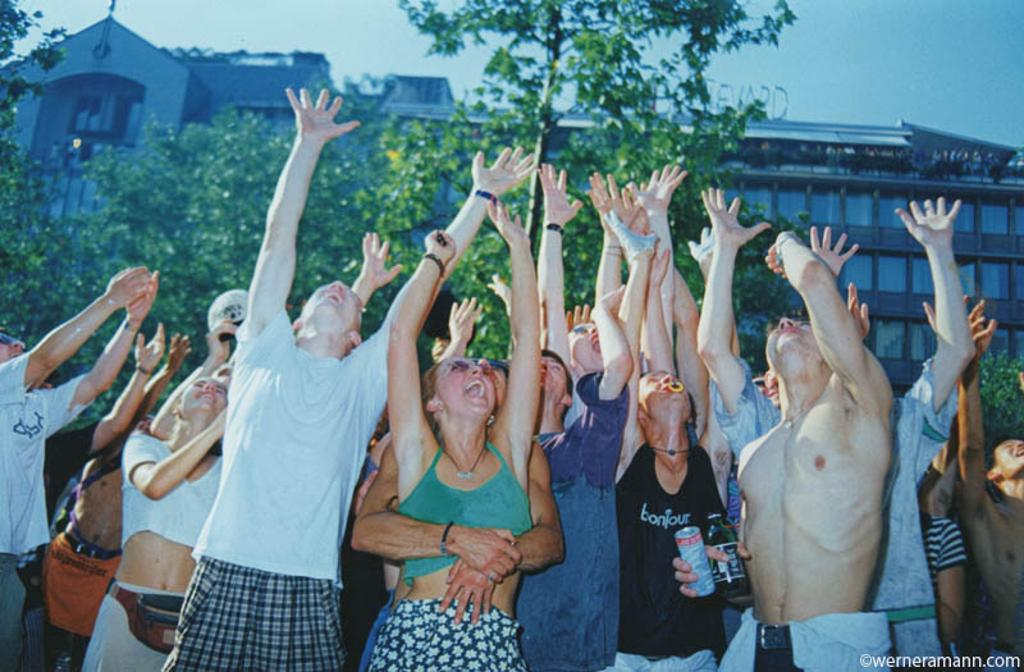face: (437, 359, 498, 419), (764, 318, 826, 370), (569, 323, 627, 374), (178, 373, 229, 421), (520, 354, 567, 405), (636, 370, 688, 406), (304, 281, 363, 311), (473, 359, 504, 404), (992, 439, 1024, 479), (749, 376, 787, 406), (3, 333, 31, 372)
